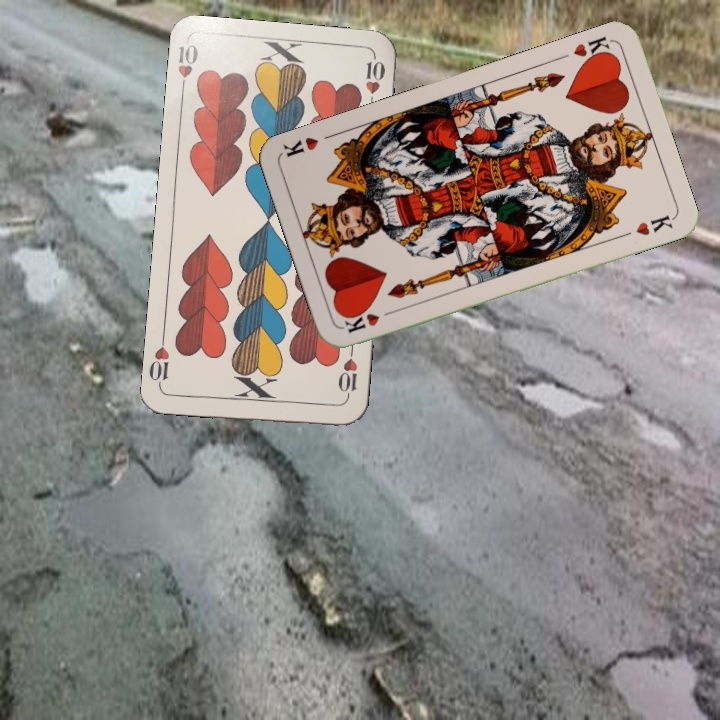H10: (174, 40, 201, 98), (334, 344, 360, 403)
HK: (341, 305, 398, 336), (569, 32, 616, 67)
